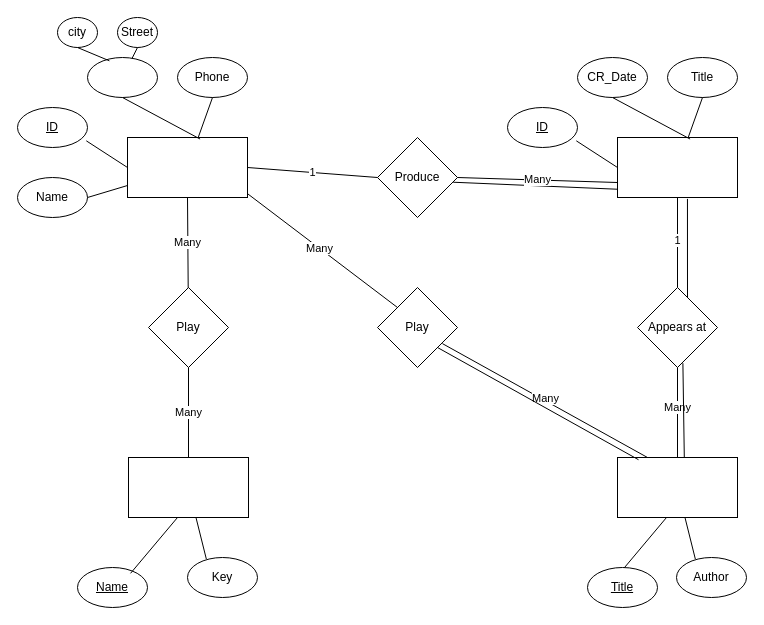
This 764x625 diagram has some shape labels left out. The shapes that lost their labels are listed below. From the top down, each one's centre as x and y in pixels, then its label:
pixel 122 77: Address
pixel 187 167: Musician
pixel 677 167: Album
pixel 188 487: Instument
pixel 677 487: Song
